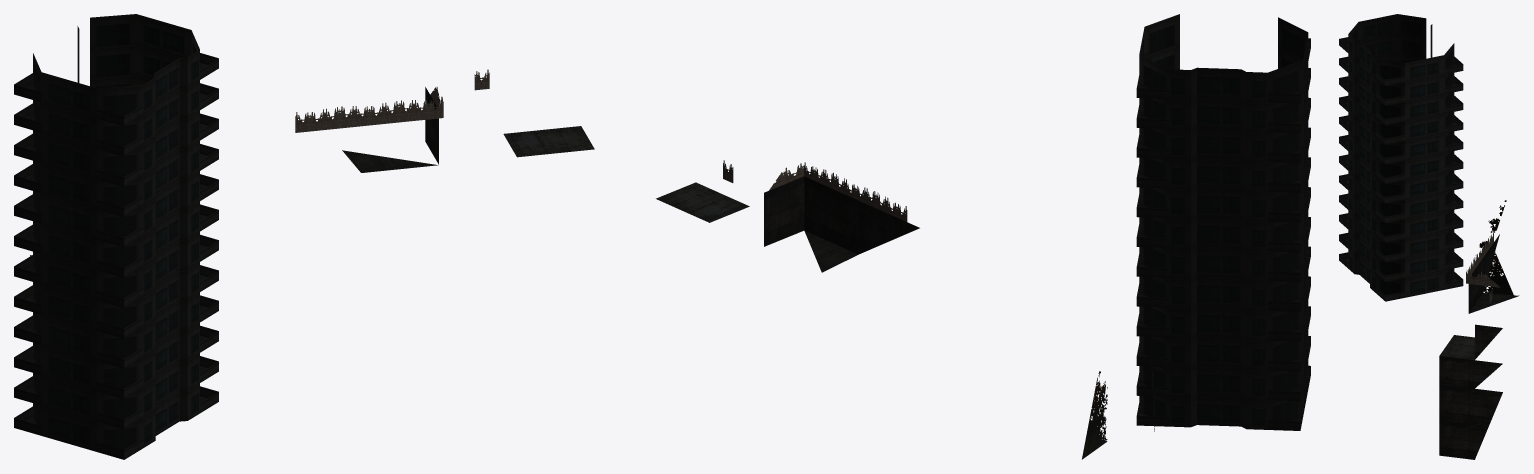
The model's file is cell_4_4.gltf.
The picture shows the model from 3 angles, left to right: view 1: azimuth 30°, elevation 25°; view 2: azimuth 150°, elevation 25°; view 3: azimuth 270°, elevation 25°; orthographic projection. The views are drawn at different scales.
Parts seen in each view (by area): view 1: cell_4_4; view 2: cell_4_4; view 3: cell_4_4.
Part boxes in pixels (x1,y1,x2,y2): cell_4_4: [14, 14, 594, 459]; cell_4_4: [656, 14, 1310, 459]; cell_4_4: [1339, 14, 1519, 459].
Bounding box in the file's own units: 148 × 90.52 × 57.67.
Materials: 7 (7 with a texture image).
